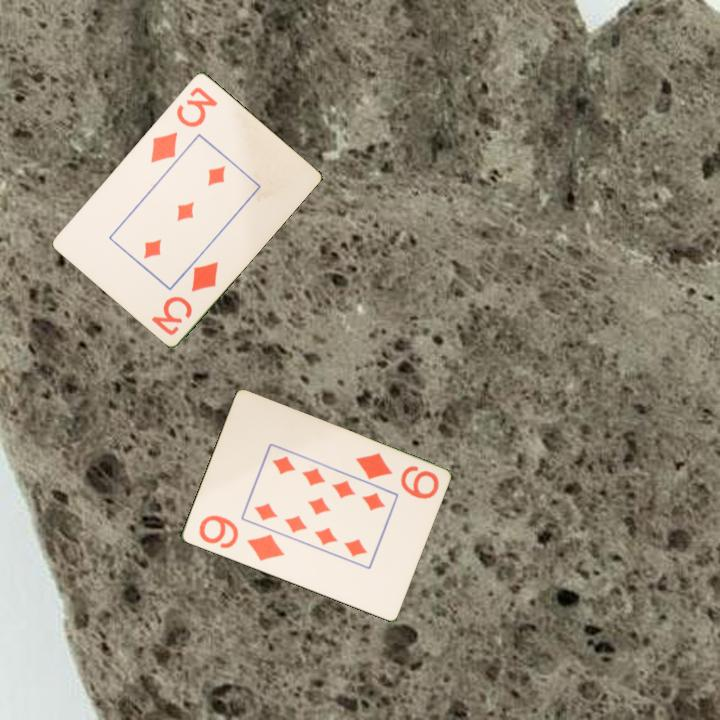3d: (147, 83, 221, 166), (148, 257, 221, 338)
9d: (195, 511, 287, 564), (352, 449, 442, 502)
